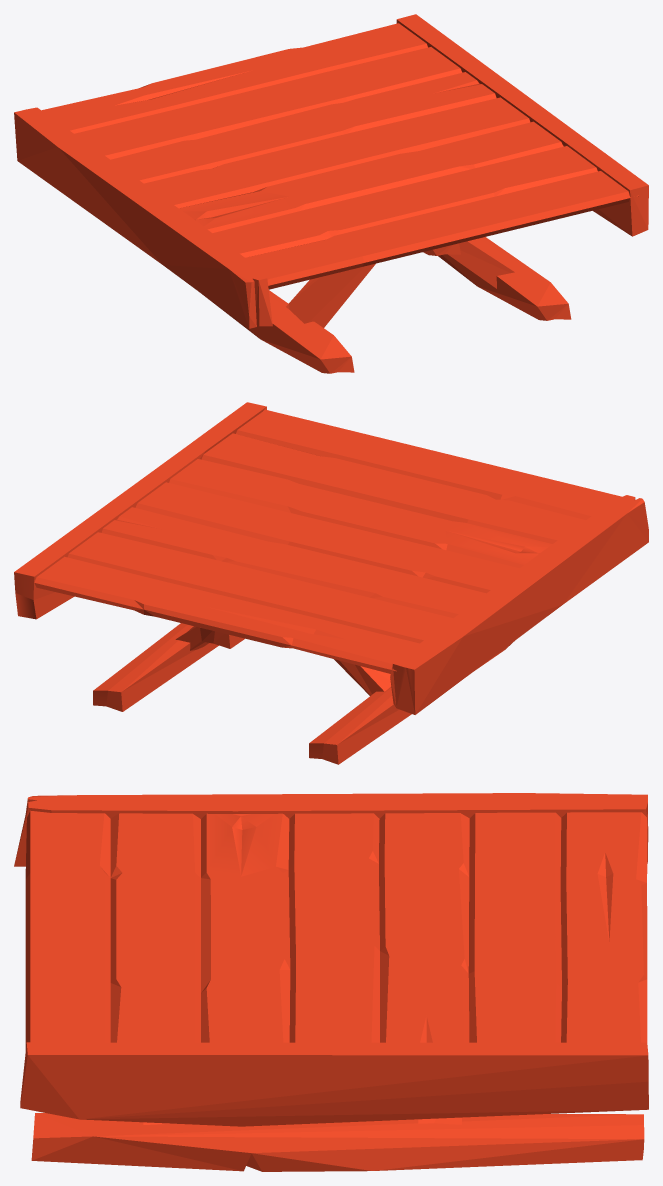
Rendered from SM_Pier_Base_Short_City.fbx.
3 renders of one model, top to bottom at view 1: azimuth 30°, elevation 25°; view 2: azimuth 150°, elevation 25°; view 3: azimuth 270°, elevation 25°, orthographic. The views are drawn at different scales.
Parts seen in each view (by area): view 1: SM_Pier_Base_Short_City; view 2: SM_Pier_Base_Short_City; view 3: SM_Pier_Base_Short_City.
Boxes of the visible parts, <box> form: SM_Pier_Base_Short_City: <box>14,14,648,373</box>; SM_Pier_Base_Short_City: <box>14,402,648,764</box>; SM_Pier_Base_Short_City: <box>14,793,648,1171</box>.
Bounding box in the file's own units: 3 × 0.8683 × 3.07.
